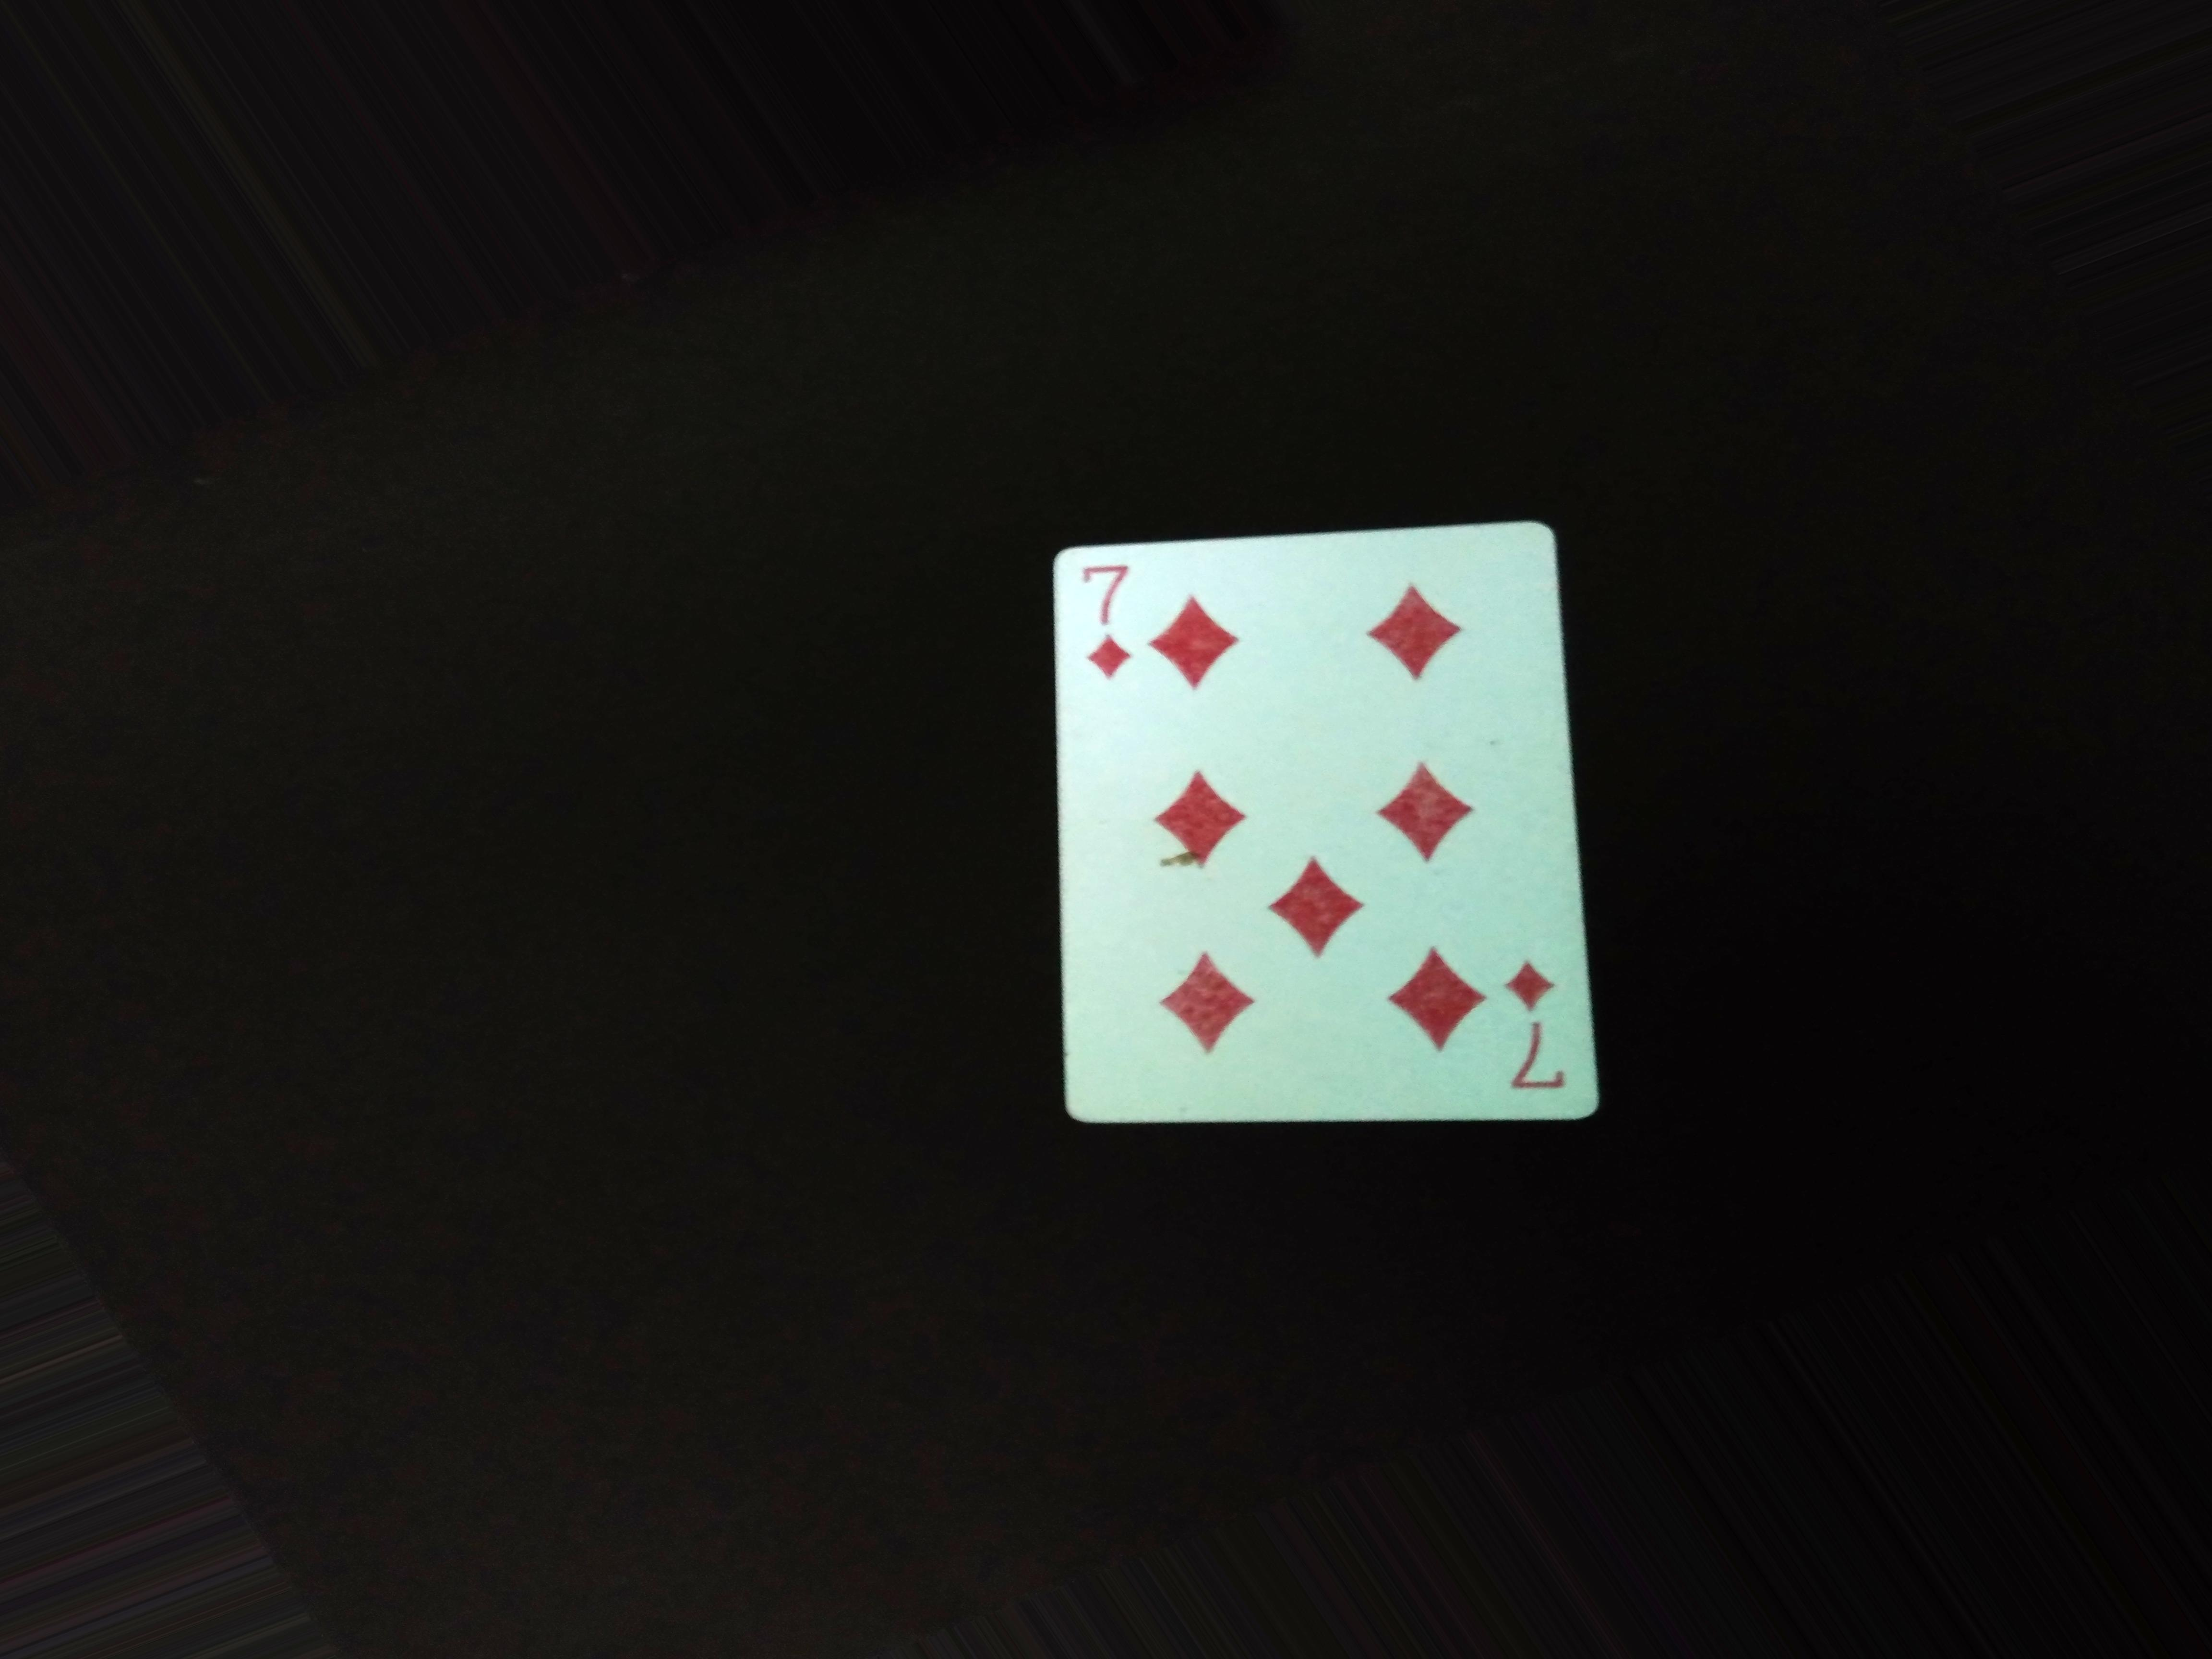7D: (1073, 545, 1144, 706)
